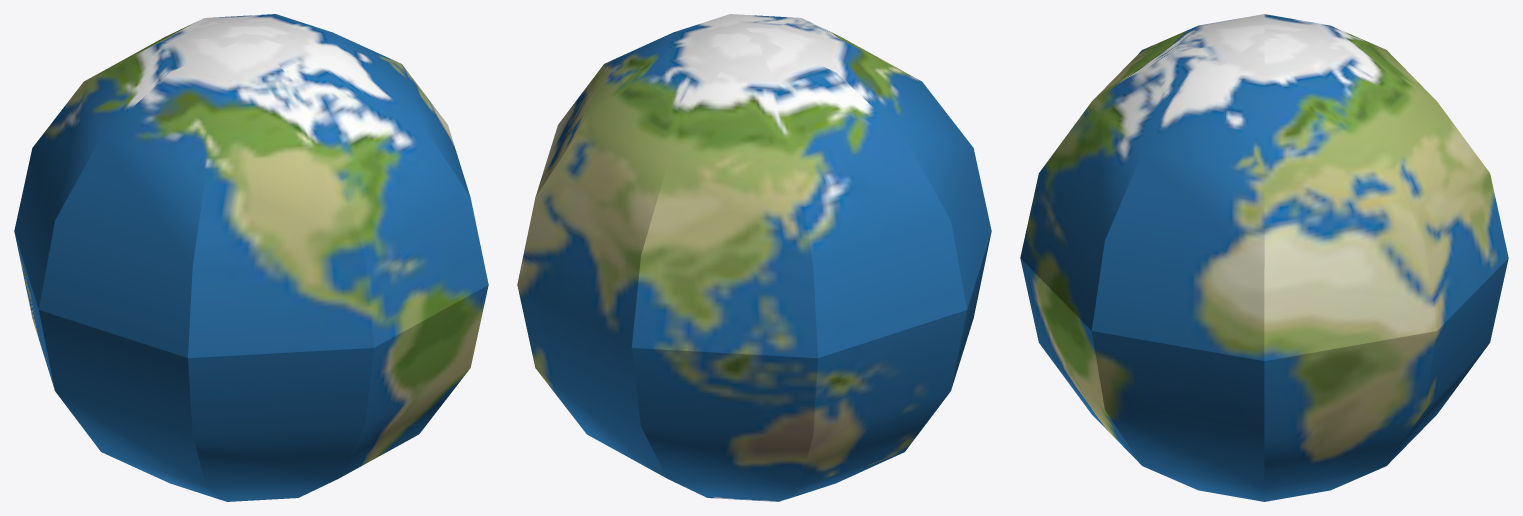
The model's file is Earth.fbx.
3 renders of one model, left to right at view 1: azimuth 30°, elevation 25°; view 2: azimuth 150°, elevation 25°; view 3: azimuth 270°, elevation 25°, orthographic.
Visible parts, largest first — view 1: Sphere, Sphere.001; view 2: Sphere, Sphere.001; view 3: Sphere, Sphere.001.
Boxes of the visible parts, <box> form: Sphere: <box>14,14,488,358</box>; Sphere.001: <box>14,233,488,501</box>; Sphere: <box>517,14,991,358</box>; Sphere.001: <box>517,233,991,501</box>; Sphere: <box>1020,14,1508,360</box>; Sphere.001: <box>1020,258,1508,501</box>.
Size of the model in its own units: 12.85 by 12.85 by 12.85.
